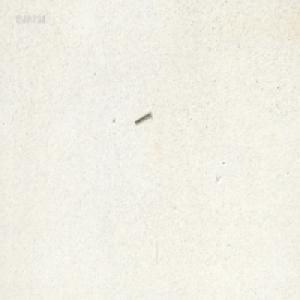Bolt: (133, 109, 150, 123)
